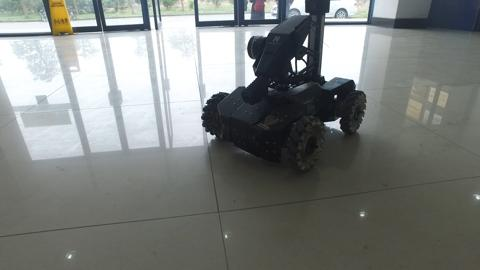car: (269, 1, 359, 22)
chariot: (199, 1, 367, 176)
